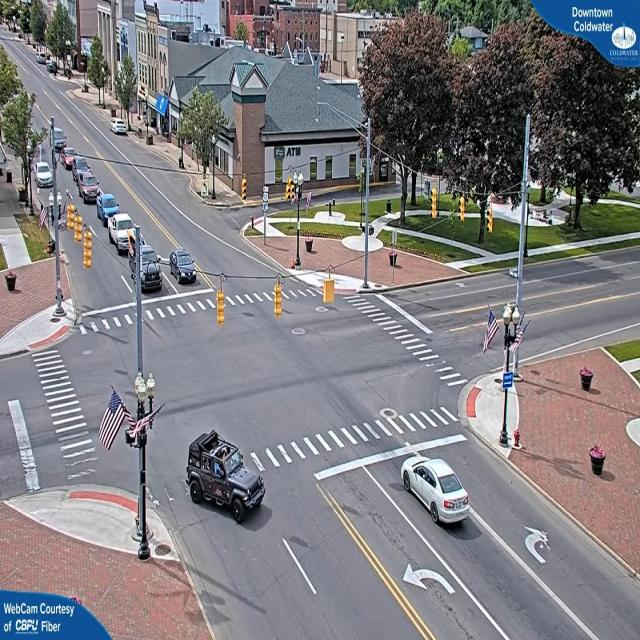car: (184, 430, 266, 524), (401, 457, 468, 529), (75, 161, 99, 206), (140, 249, 164, 293), (168, 250, 198, 284), (98, 195, 121, 220), (112, 121, 130, 138)
truck: (108, 214, 135, 254)
